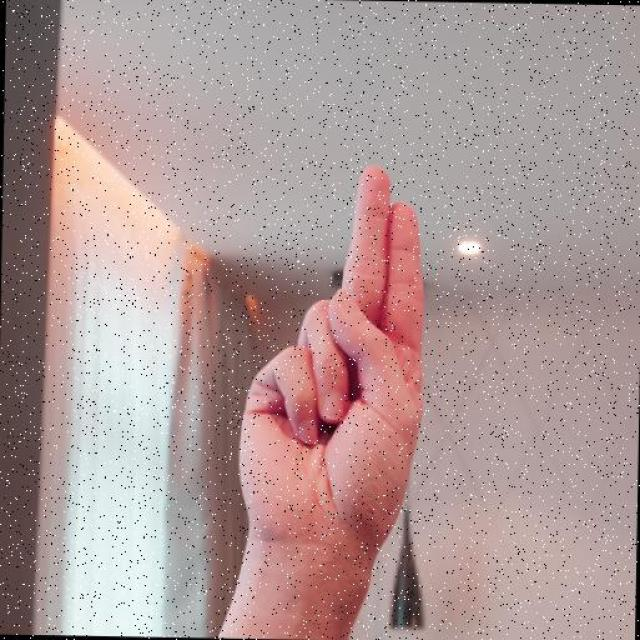U: (232, 156, 430, 552)
